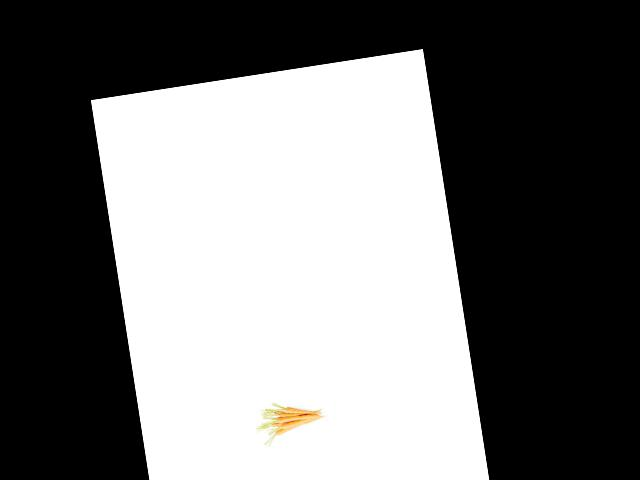carrot: (280, 399, 320, 421)
